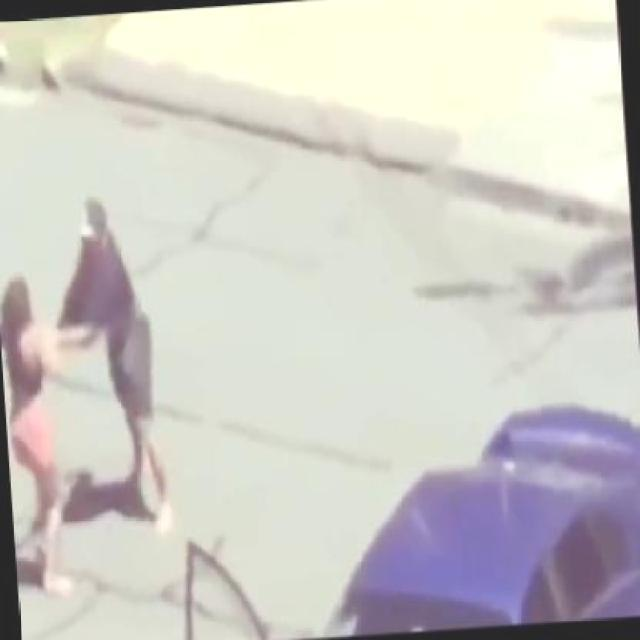fight: (0, 191, 180, 604)
